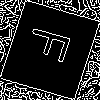F: (25, 24, 82, 67)
